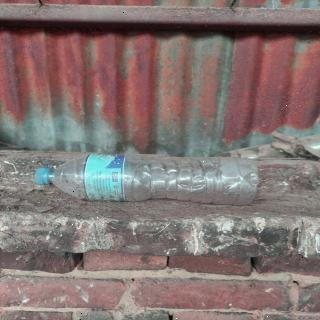Plastic-bottle: (30, 149, 264, 212)
